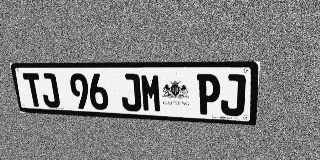6: (87, 73, 109, 110)
9: (69, 73, 91, 109)
J: (220, 74, 246, 116), (119, 73, 142, 112), (39, 73, 61, 108)
M: (140, 74, 162, 113)
P: (197, 74, 220, 115)
T: (22, 73, 44, 107)
